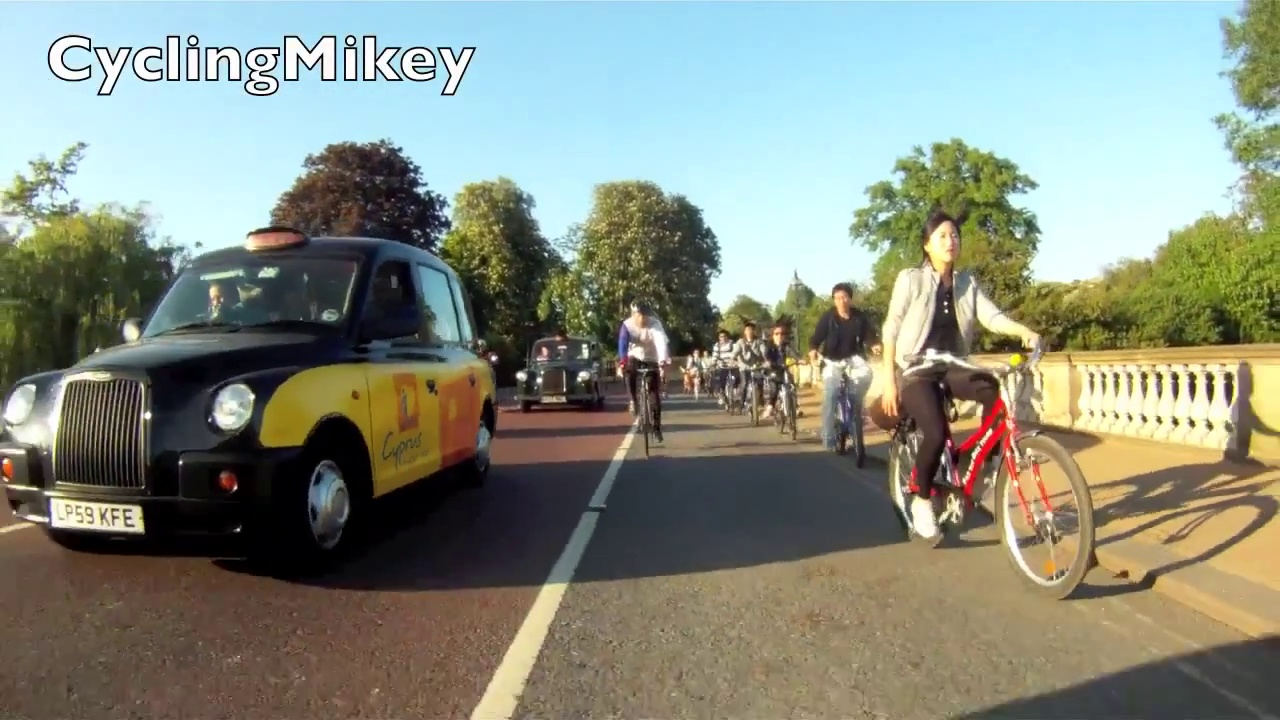cyclist_front: (883, 212, 1097, 603), (807, 282, 889, 468), (612, 291, 671, 458), (767, 317, 812, 441), (736, 314, 774, 432), (713, 328, 743, 414)
